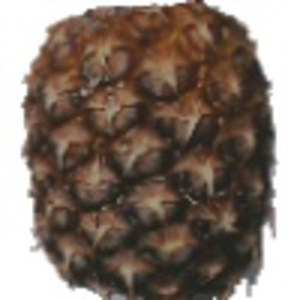abacaxi: (14, 2, 282, 300)
